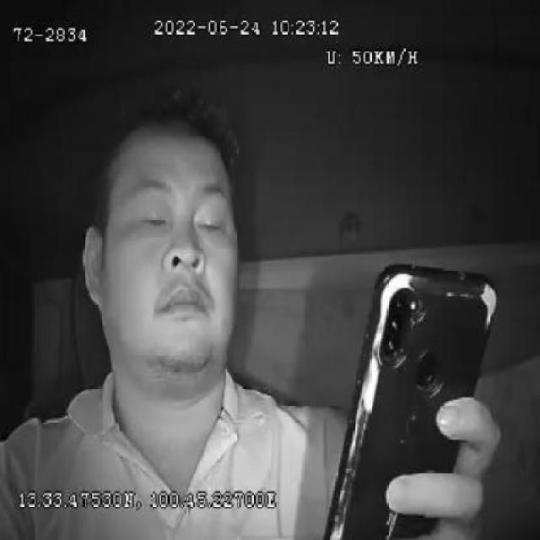phone: (321, 259, 498, 540)
